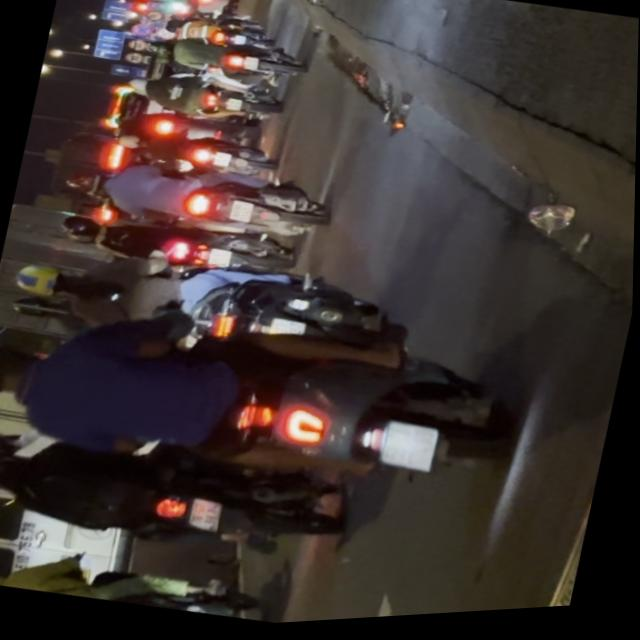helmet: (11, 259, 77, 305), (0, 341, 34, 407), (0, 442, 38, 498), (0, 427, 21, 462)
licenseplate: (0, 244, 624, 559), (3, 219, 404, 391), (0, 403, 357, 590), (0, 526, 280, 638)
nohelmet: (378, 424, 440, 481), (187, 500, 223, 537)
